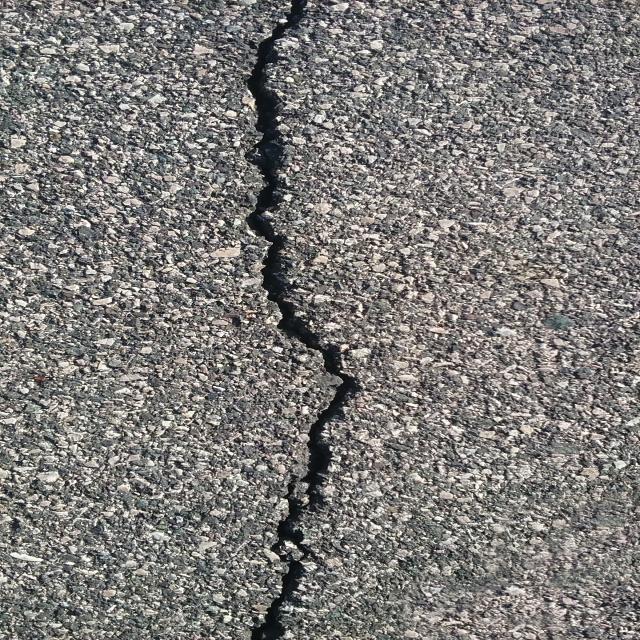Longitudial: (174, 0, 410, 640)
